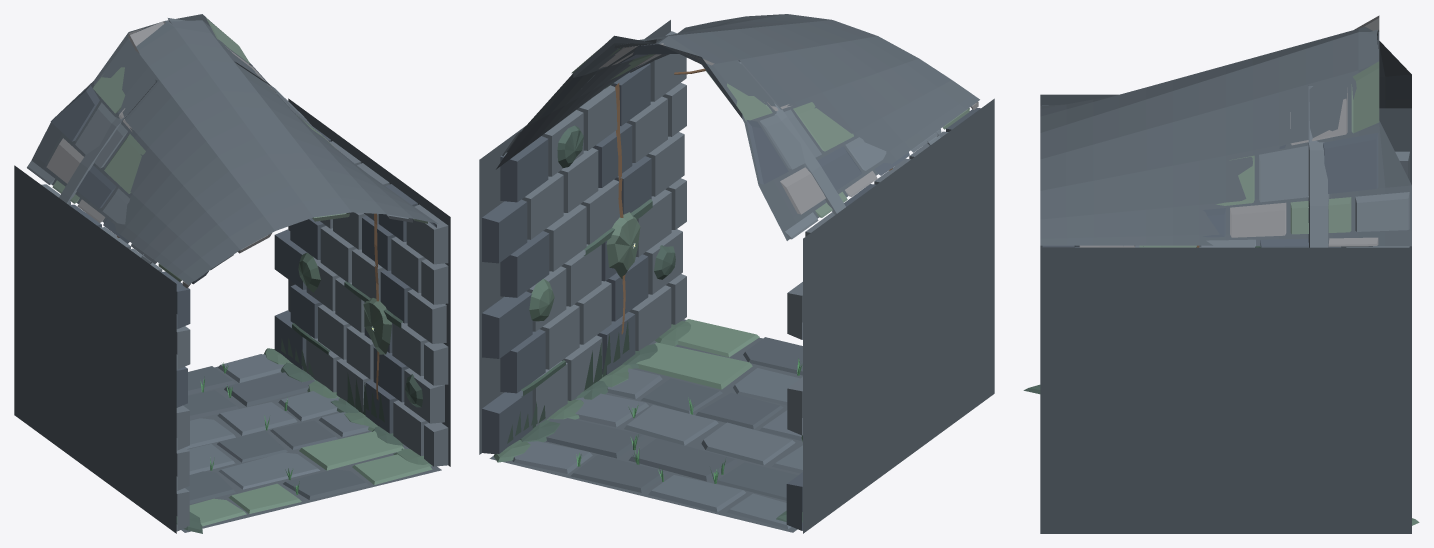
Rendered from tile_grotto_connector.glb.
The picture shows the model from 3 angles, left to right: view 1: azimuth 30°, elevation 25°; view 2: azimuth 150°, elevation 25°; view 3: azimuth 270°, elevation 25°; orthographic projection. The views are drawn at different scales.
Parts seen in each view (by area): view 1: Tile_Grotto_Connector; view 2: Tile_Grotto_Connector; view 3: Tile_Grotto_Connector.
Part boxes in pixels (box(x1,y1,x2,y2)): Tile_Grotto_Connector: box(14, 14, 450, 533); Tile_Grotto_Connector: box(479, 14, 994, 533); Tile_Grotto_Connector: box(1023, 15, 1419, 533).
Size of the model in its own units: 3.9 by 5.11 by 4.27.
